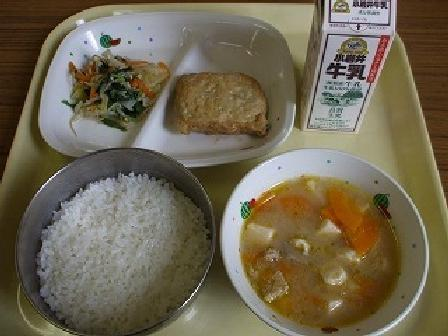Milk: (298, 0, 411, 139)
Rice: (19, 153, 202, 335)
Salad: (43, 45, 171, 131)
Soups: (220, 156, 426, 332)
cutlet: (153, 55, 286, 147)
